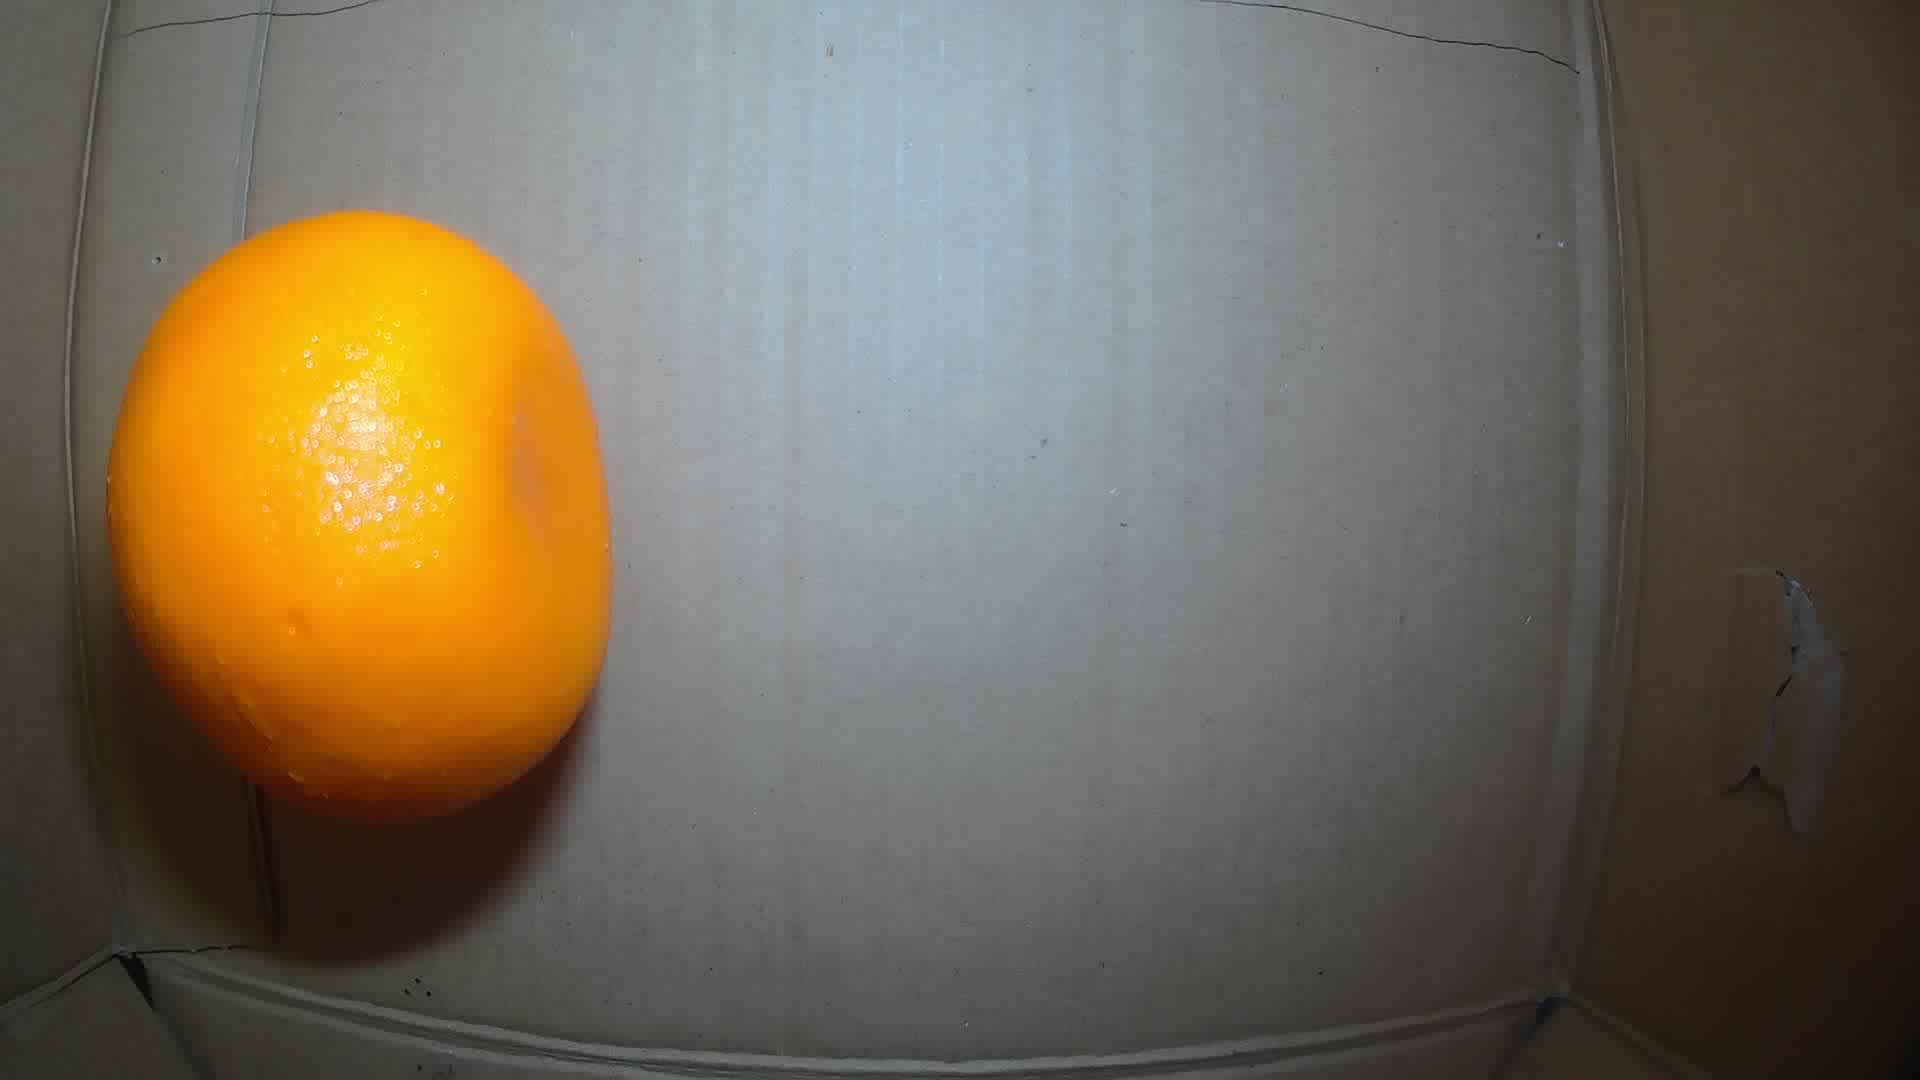orange: (109, 211, 612, 822)
